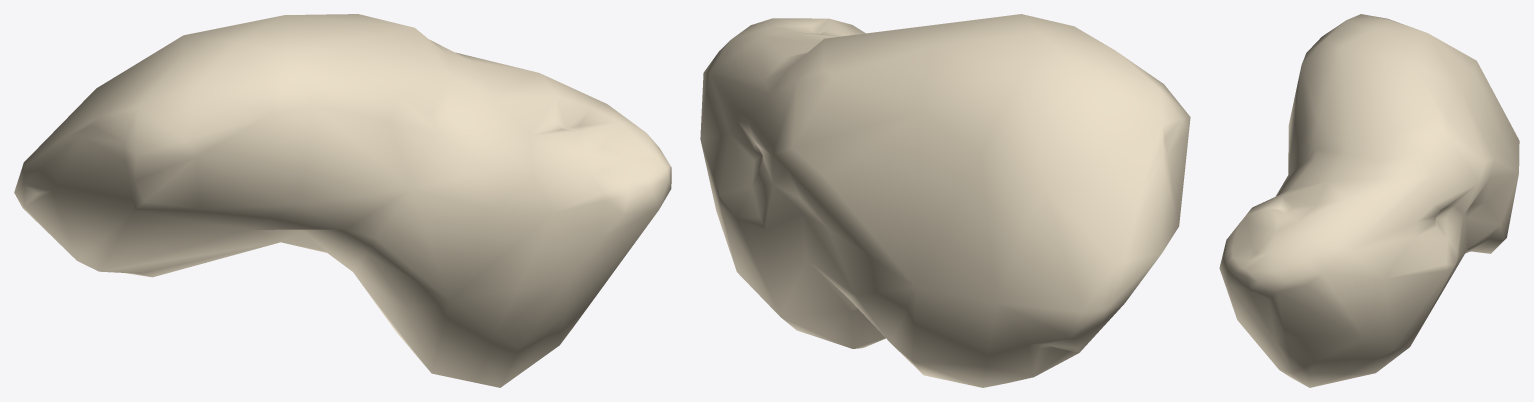
The model's file is scaphoid-bone-l.glb.
The picture shows the model from 3 angles, left to right: view 1: azimuth 30°, elevation 25°; view 2: azimuth 150°, elevation 25°; view 3: azimuth 270°, elevation 25°; orthographic projection. The views are drawn at different scales.
Visible parts, largest first — view 1: Scaphoid bone.l; view 2: Scaphoid bone.l; view 3: Scaphoid bone.l.
Part boxes in pixels (x1=…): Scaphoid bone.l: x1=14, y1=14, x2=671, y2=387; Scaphoid bone.l: x1=700, y1=14, x2=1190, y2=387; Scaphoid bone.l: x1=1219, y1=14, x2=1519, y2=387.
Size of the model in its own units: 0.0246 by 0.0162 by 0.0159.
